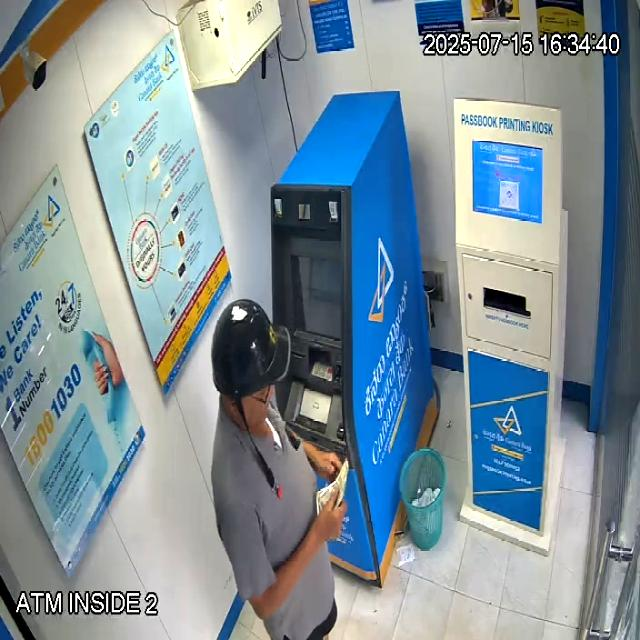no_helmet: (211, 297, 290, 428)
